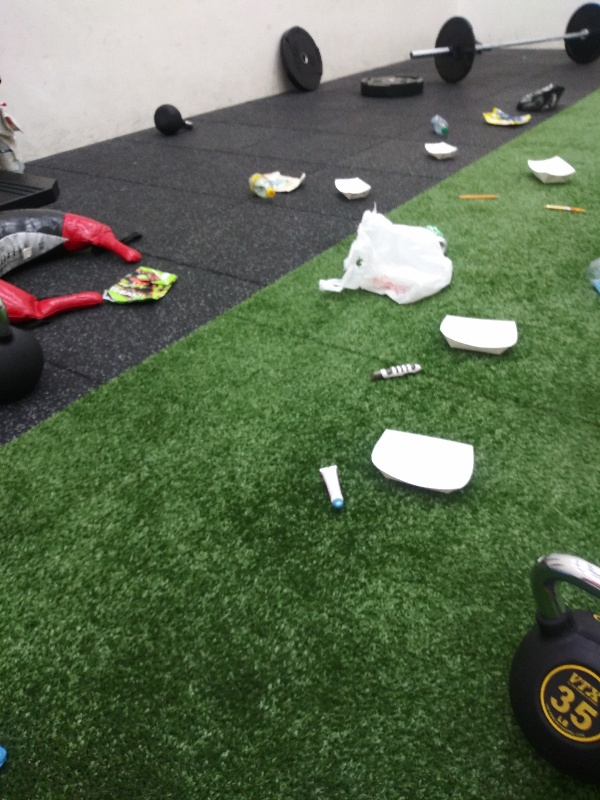bag: (100, 263, 186, 310), (262, 169, 315, 197), (478, 106, 532, 129)
bottle: (243, 171, 274, 202), (424, 109, 452, 141), (585, 255, 600, 302)
plate: (363, 425, 481, 501), (433, 309, 524, 360), (519, 150, 581, 187), (329, 173, 375, 204), (418, 136, 463, 165)
